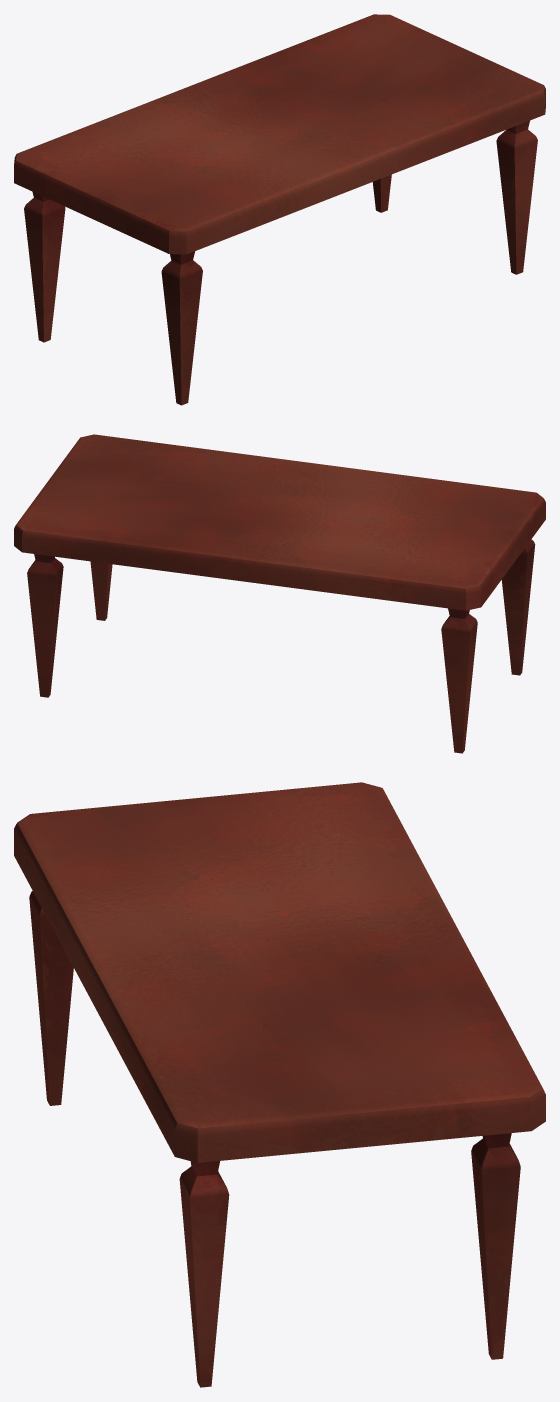
The model's file is 06_Lv1 Small Table.fbx.
The picture shows the model from 3 angles, top to bottom: view 1: azimuth 30°, elevation 25°; view 2: azimuth 150°, elevation 25°; view 3: azimuth 270°, elevation 25°; orthographic projection. The views are drawn at different scales.
Parts seen in each view (by area): view 1: Small_Table; view 2: Small_Table; view 3: Small_Table.
Boxes of the visible parts, box(x1,y1,x2,y2) form: Small_Table: box(14, 14, 545, 405); Small_Table: box(14, 434, 545, 753); Small_Table: box(14, 782, 545, 1387).
Size of the model in its own units: 2132 by 788 by 1374.
